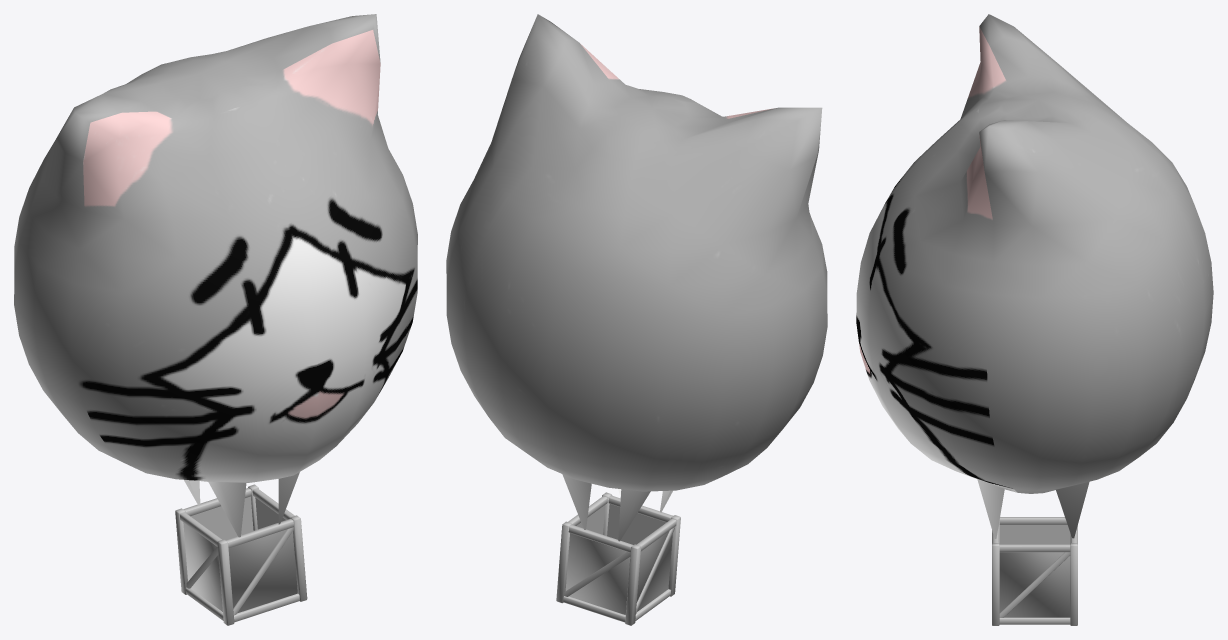
The model's file is catBalloon.fbx.
3 views of the same model, side by side, from view 1: azimuth 30°, elevation 25°; view 2: azimuth 150°, elevation 25°; view 3: azimuth 270°, elevation 25° (orthographic). The views are drawn at different scales.
Visible parts, largest first — view 1: meow:polySurface23, meow:box; view 2: meow:polySurface23, meow:box; view 3: meow:polySurface23, meow:box.
Boxes of the visible parts, x1,y1,x2,y2 form: meow:polySurface23: (14, 14, 417, 537); meow:box: (175, 484, 307, 625); meow:polySurface23: (446, 14, 827, 541); meow:box: (556, 492, 680, 625); meow:polySurface23: (856, 14, 1213, 538); meow:box: (992, 517, 1077, 625).
Size of the model in its own units: 30.15 by 45.77 by 27.64.
